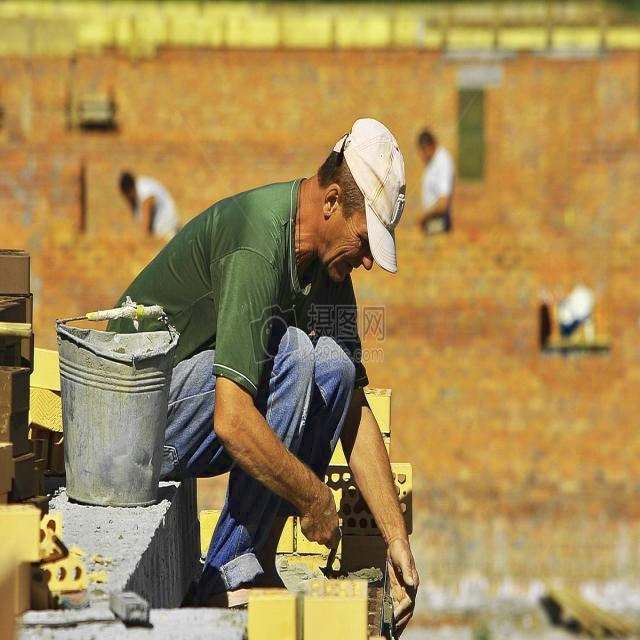Sin_Casco_Mascarrilla: (313, 112, 406, 284)
